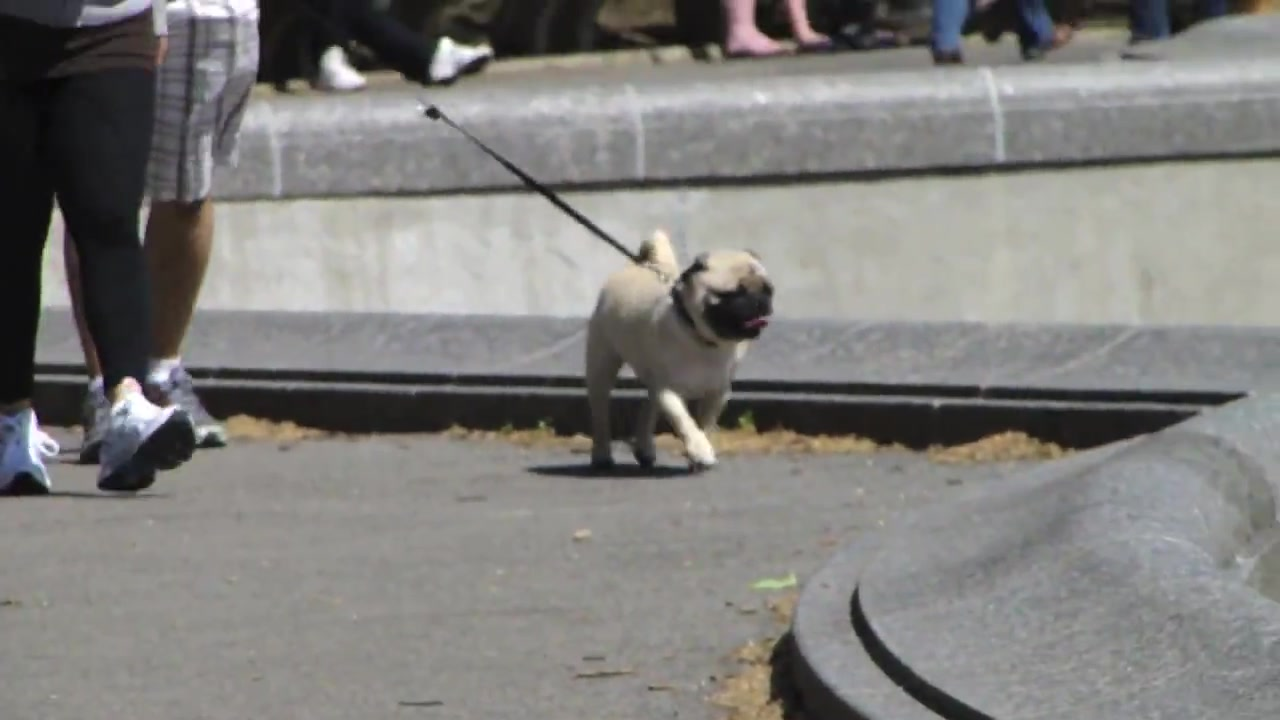dog: (580, 231, 779, 474)
